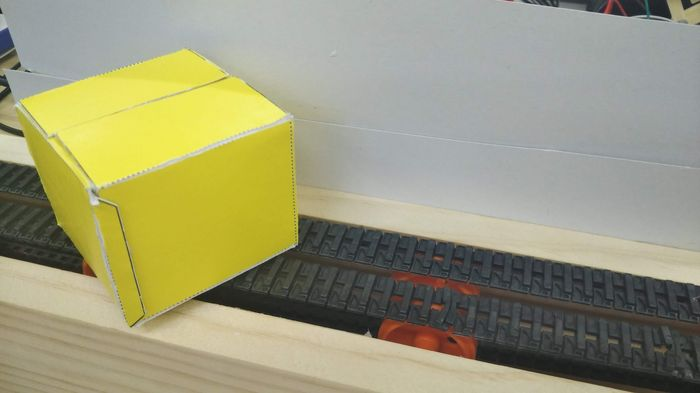box4: (10, 43, 301, 329)
